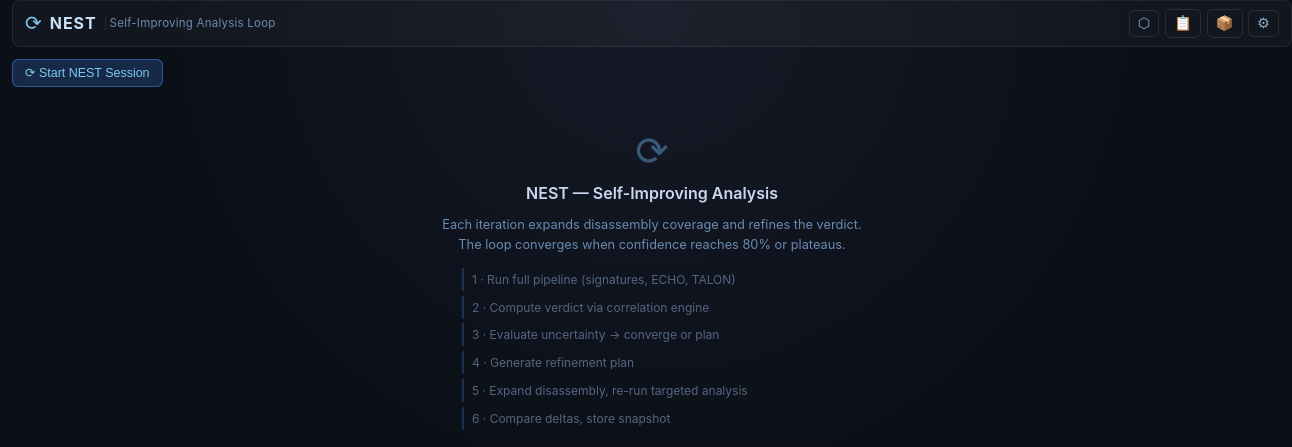
it: NEST rendered identity custody flow › does not start a local-only runner when lifecycle creation fails: source identity rejected
This screenshot has width=1292, height=447.
Click the button "⟳ Start NEST Session" at coordinates (87, 73), box [12,59,163,87]
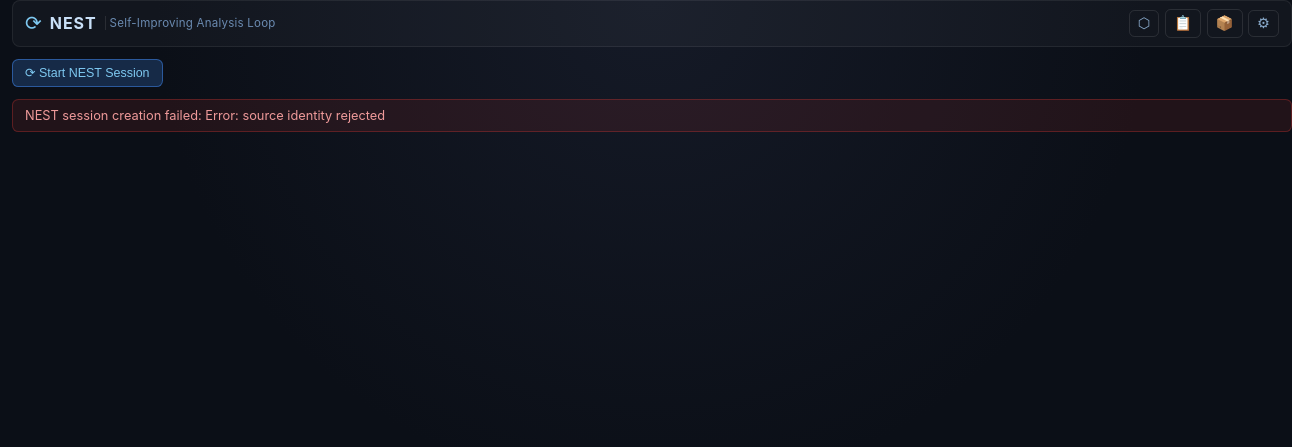
expect the text with class "nest-error" shows "source identity rejected": met, box [25,108,385,123]
